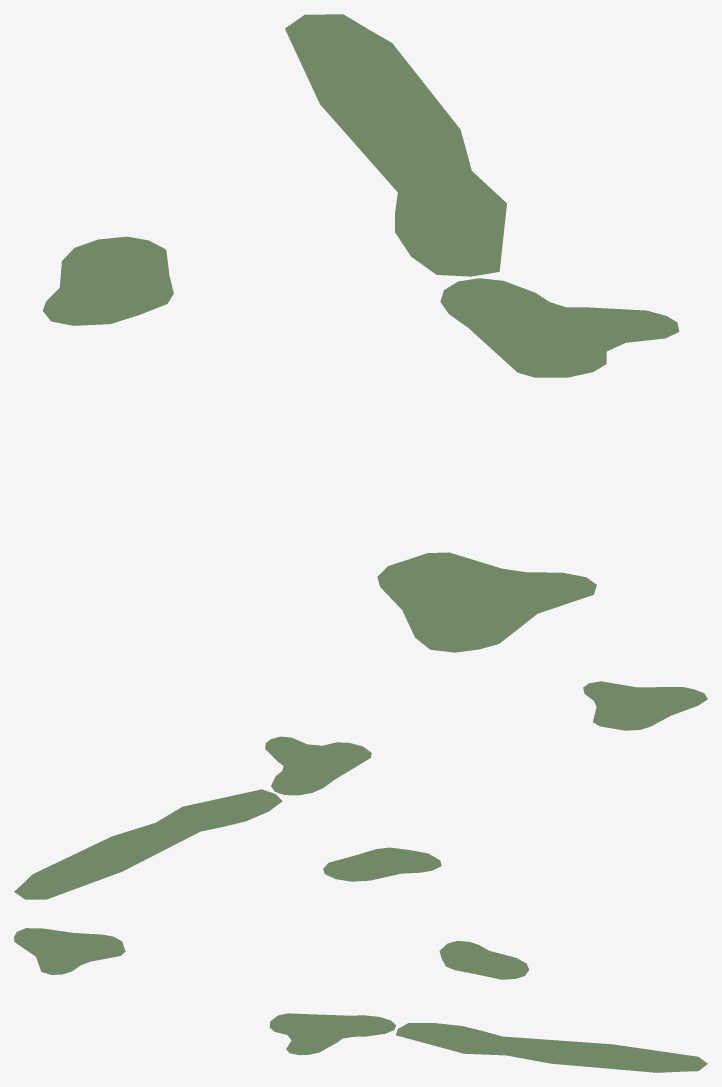
File: c_1647_17821_parks.glb
The picture shows the model from 3 angles, top to bottom: view 1: azimuth 30°, elevation 25°; view 2: azimuth 150°, elevation 25°; view 3: azimuth 270°, elevation 25°; orthographic projection. The views are drawn at different scales.
Visible parts, largest first — view 1: geometry_0; view 2: geometry_0; view 3: geometry_0.
Boxes of the visible parts, x1=… form: geometry_0: x1=42, y1=14, x2=679, y2=652; geometry_0: x1=14, y1=681, x2=707, y2=899; geometry_0: x1=14, y1=928, x2=707, y2=1072.
Bounding box in the file's own units: 94.5 × 0 × 191.
